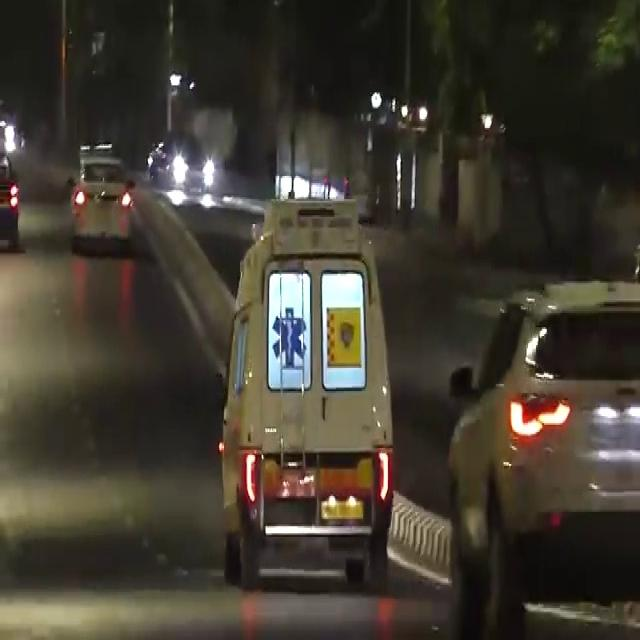ambulance: (212, 204, 398, 595)
